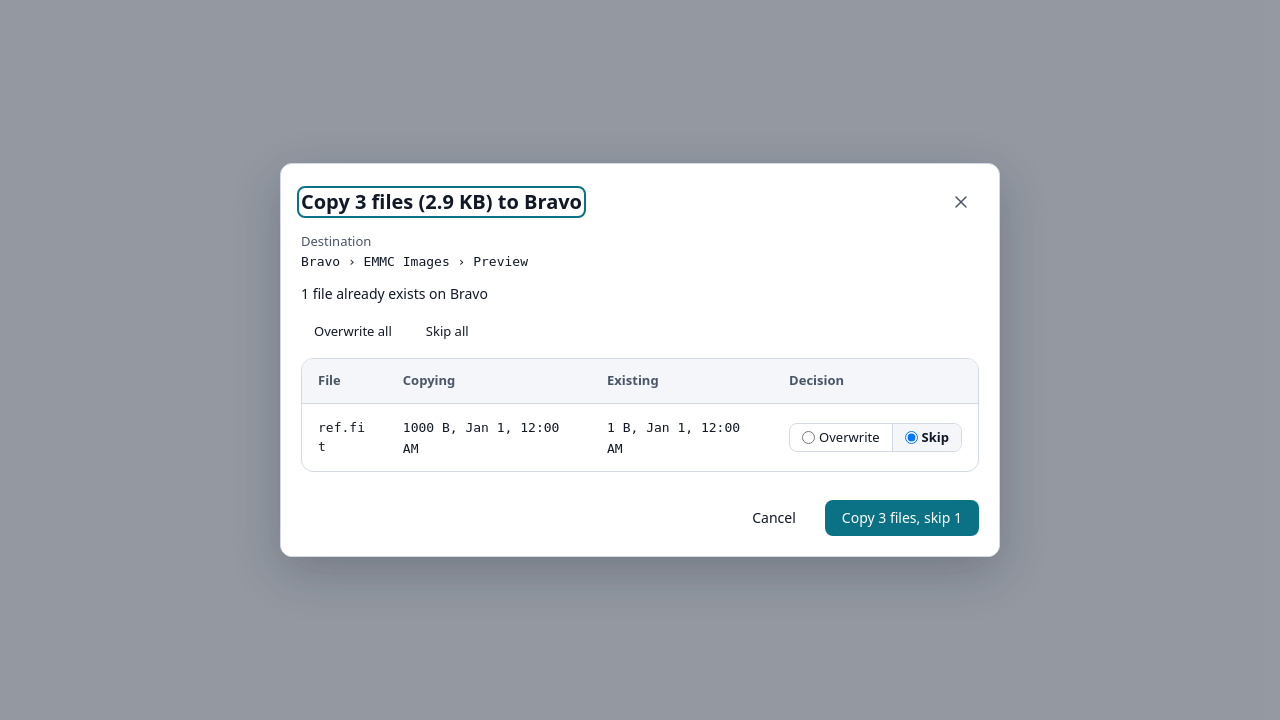
Test: CopyDialog › Overwrite all, then Skip all, round-trips every row
This screenshot has width=1280, height=720.
Expected: the text "1 file already exists on Bravo" is shown, [301,284,488,303]
Click the button "Overwrite all": x=353, y=331 [301,316,405,346]
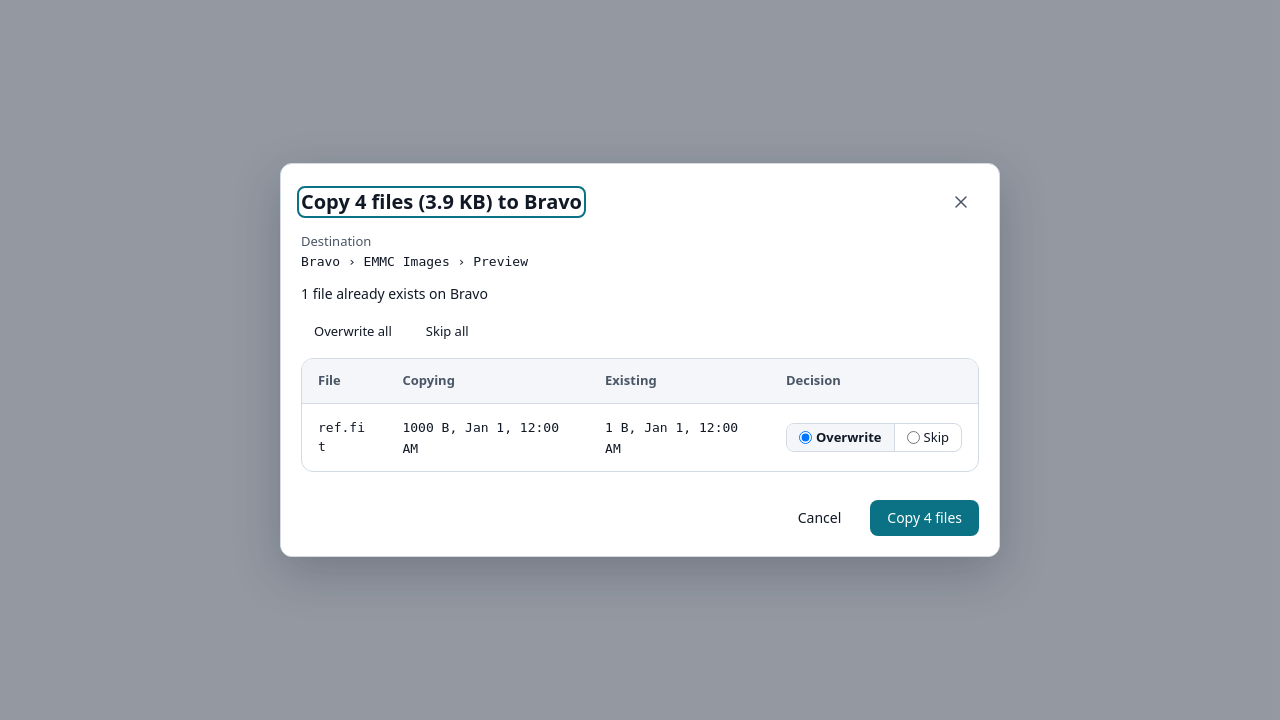
Expected: the button "Copy 4 files" is shown, [870,500,979,536]
Click the button "Skip all": x=447, y=331 [413,316,482,346]
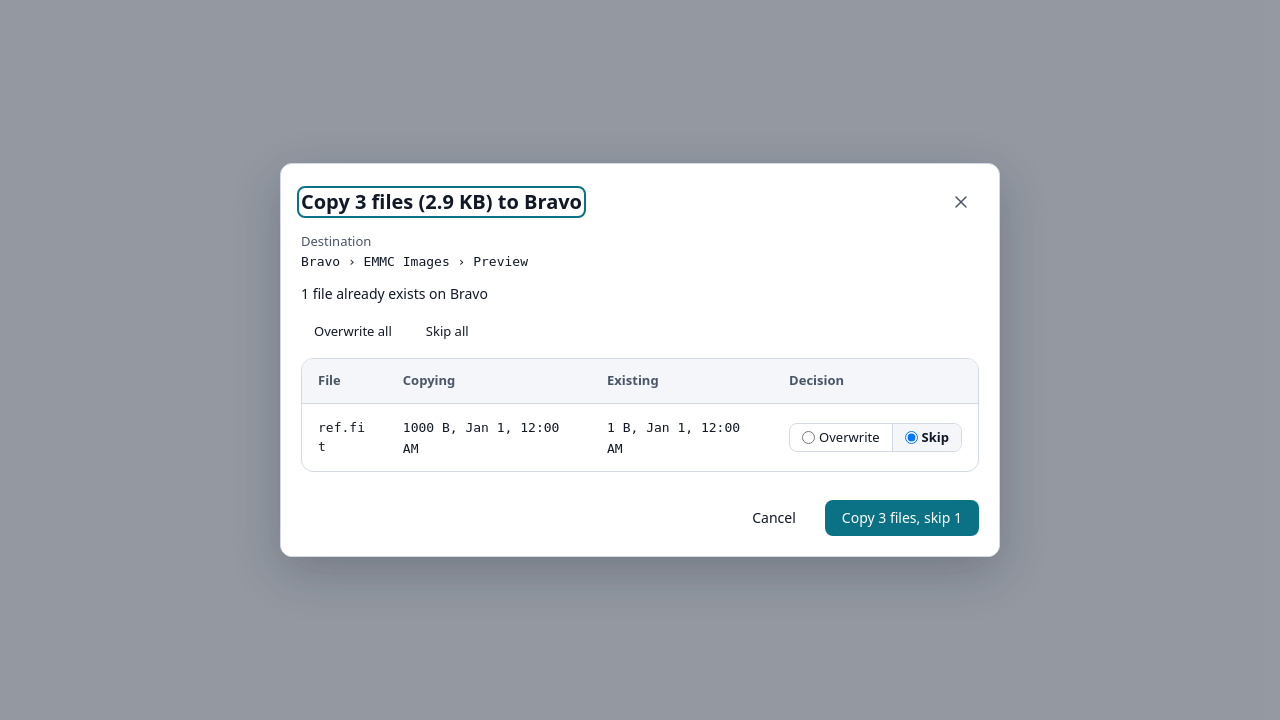
Expected: the button "Copy 3 files, skip 1" is shown, [825,500,979,536]
